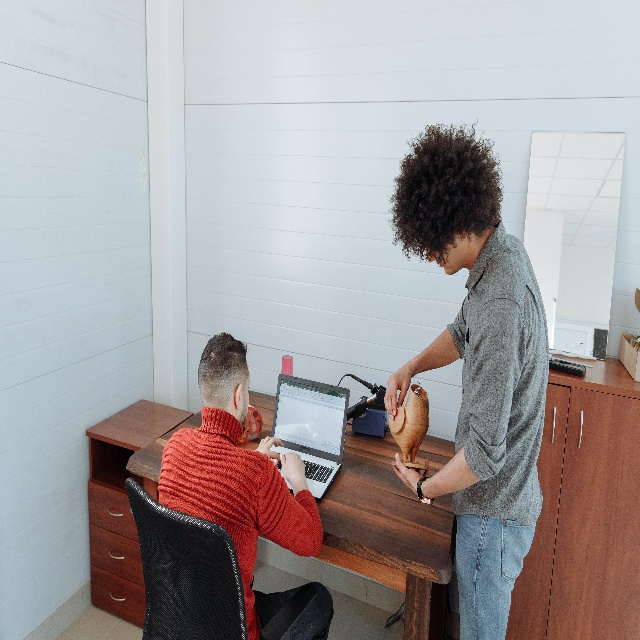Sin_guantes: (391, 449, 433, 502), (384, 365, 413, 421), (279, 450, 308, 487), (257, 434, 288, 464)
